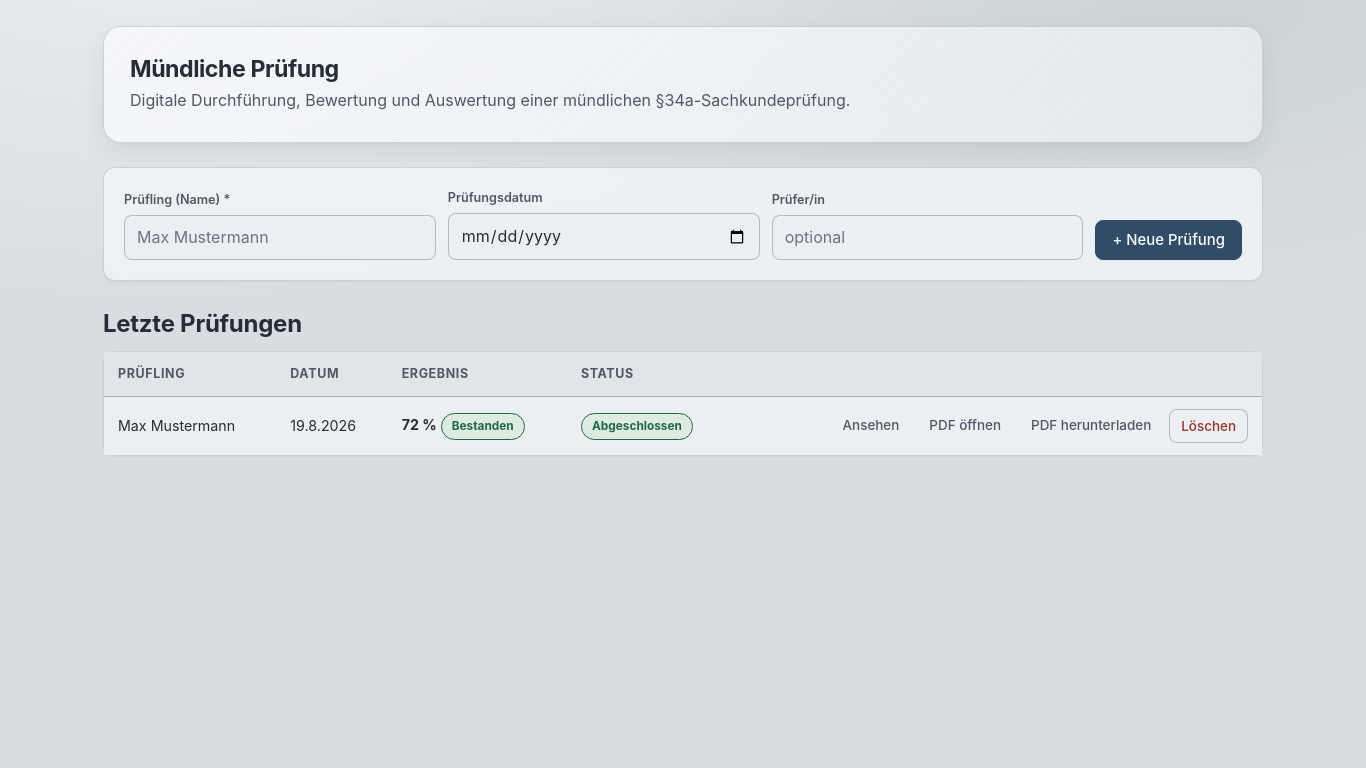
Test case: delete confirmation › asks for confirmation before deleting anything
Click the button "Löschen" at x=1209, y=426, box x1=1169 y1=409 x2=1248 y2=443
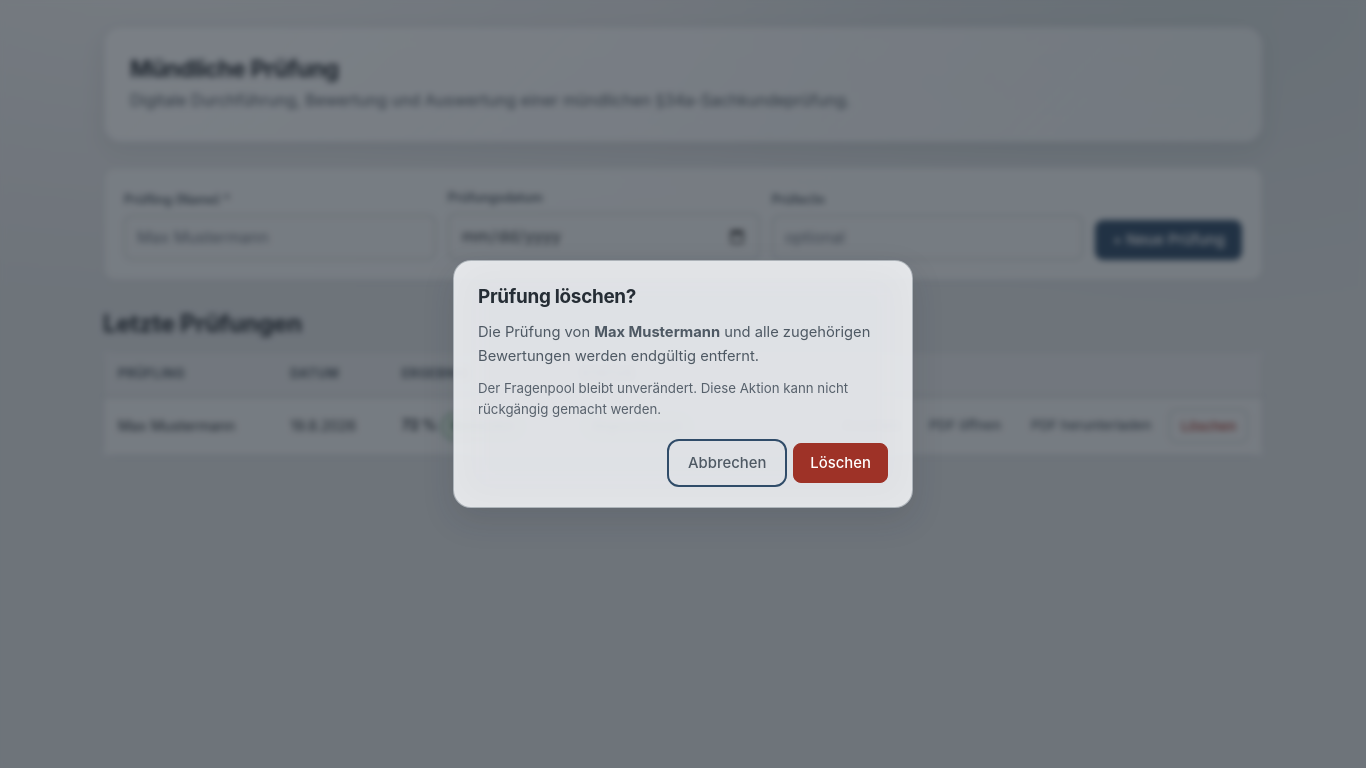
Check: the dialog is shown, box x1=453 y1=260 x2=913 y2=508
Check: the heading "Prüfung löschen?" is shown, box x1=478 y1=285 x2=636 y2=308
